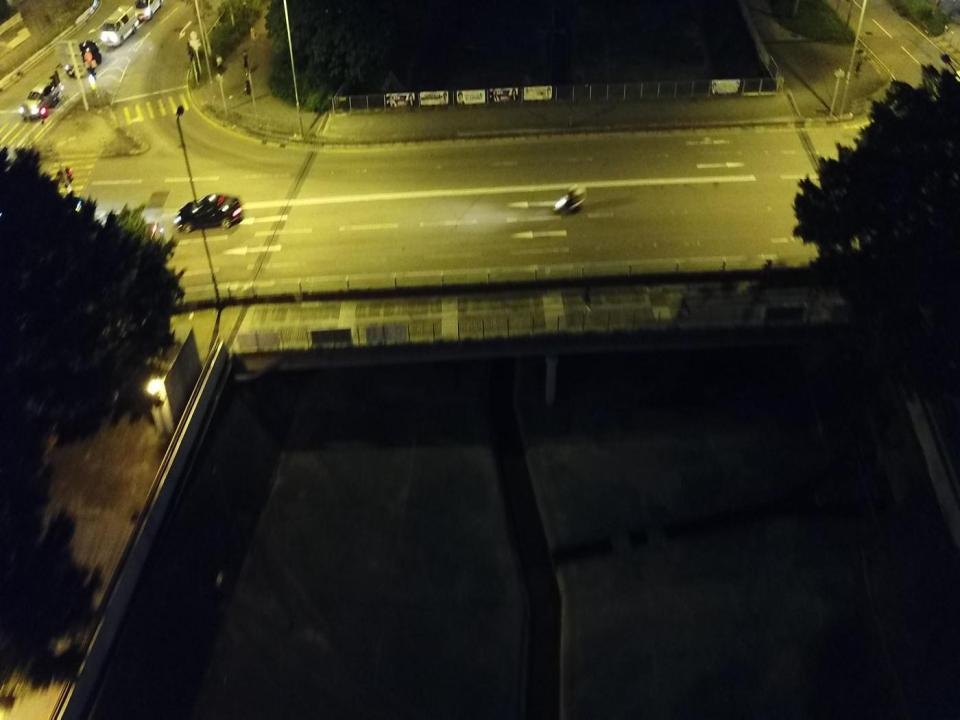car: (174, 193, 244, 235), (18, 76, 57, 120), (64, 40, 103, 80)
van: (100, 4, 139, 47), (134, 0, 164, 22)
